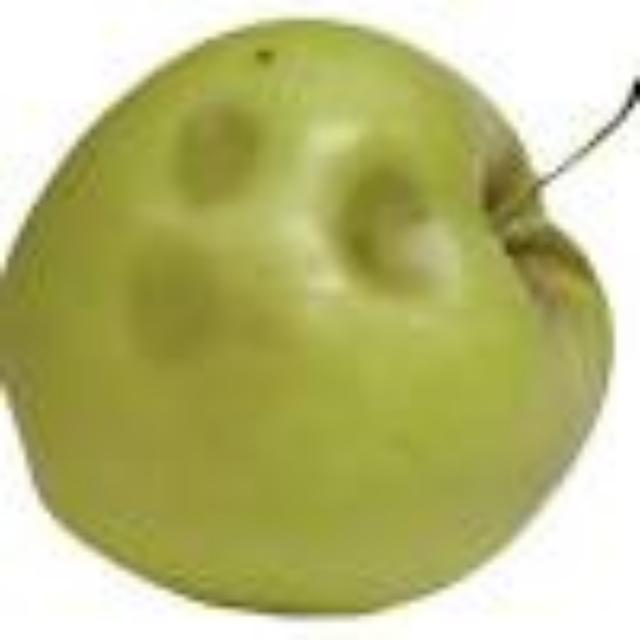Defected potato: (1, 6, 636, 640)
